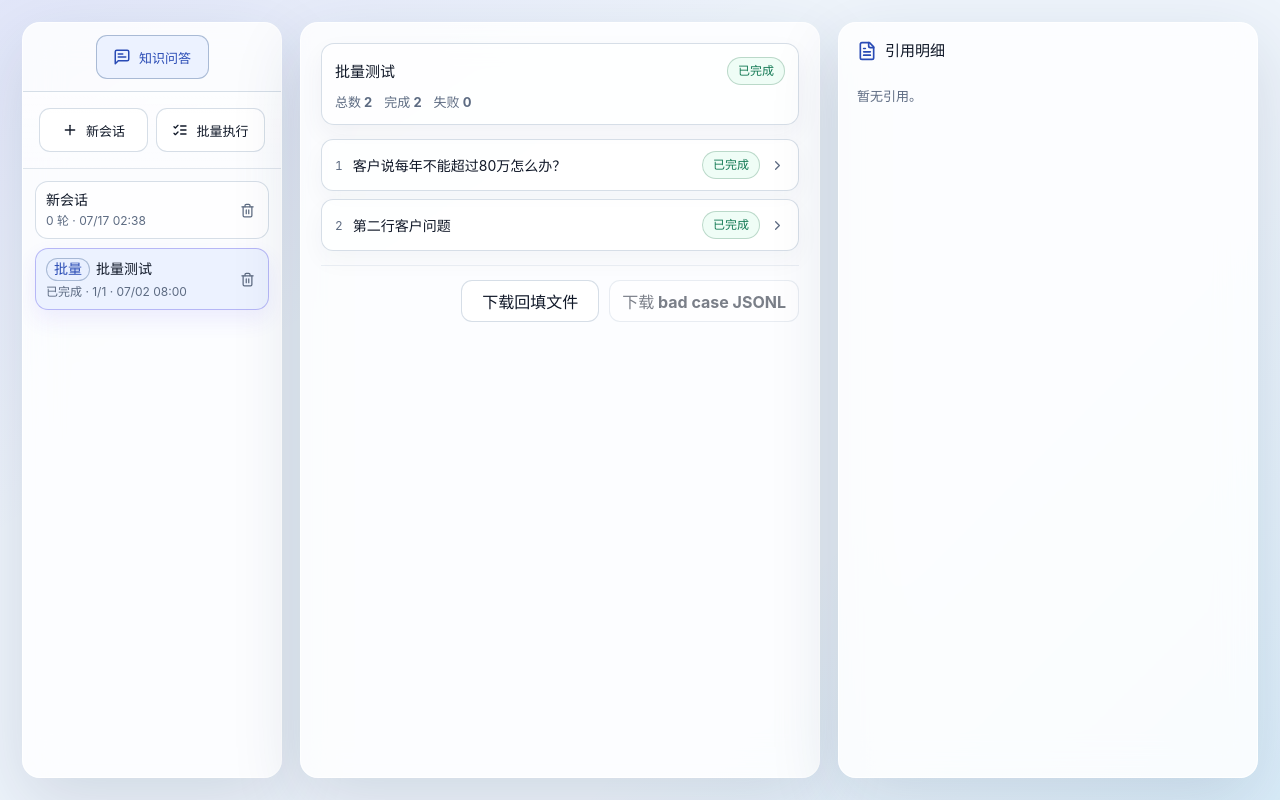
it: 批量行引用反馈按行与原始 evidence 索引隔离
Click the button "1 客户说每年不能超过80万怎么办？ 已完成": click(560, 165) [321,139,799,191]
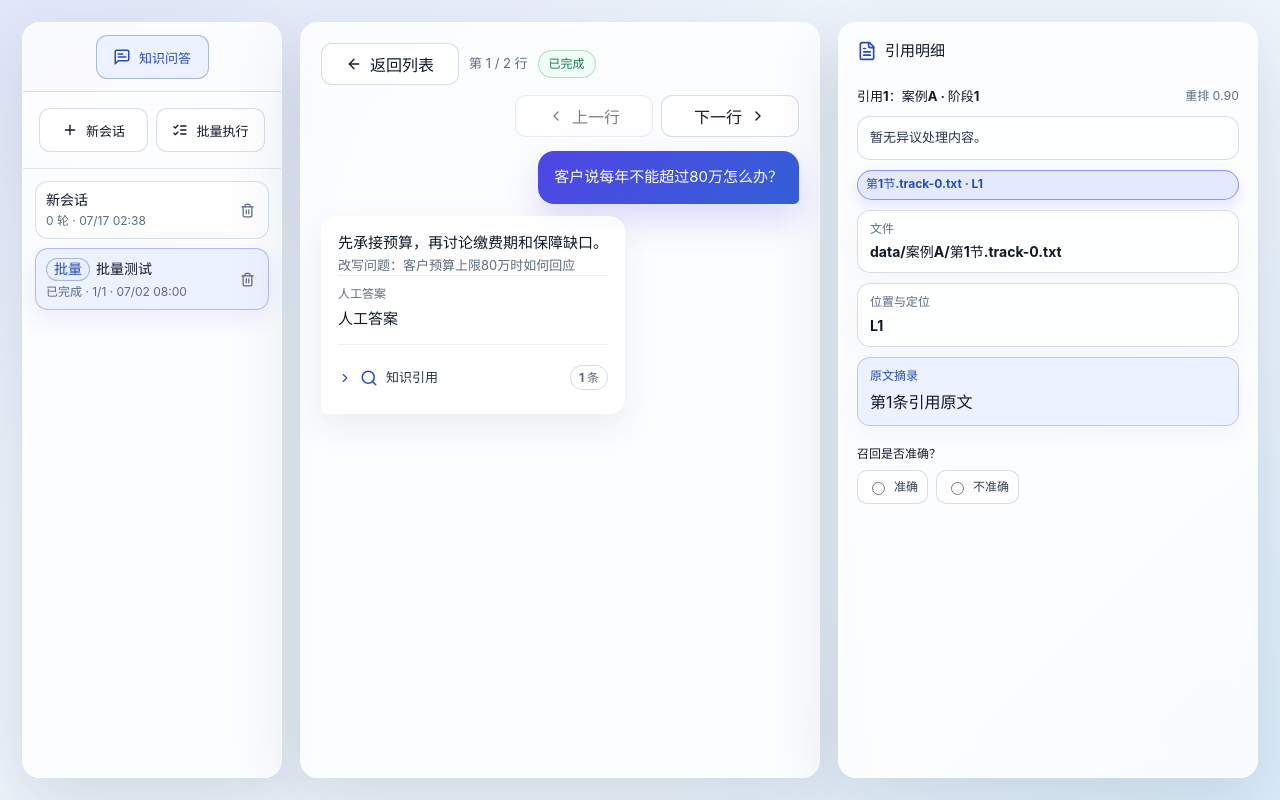
Click the radio button with aria-label "引用1召回准确": click(878, 489) [872,482,885,495]
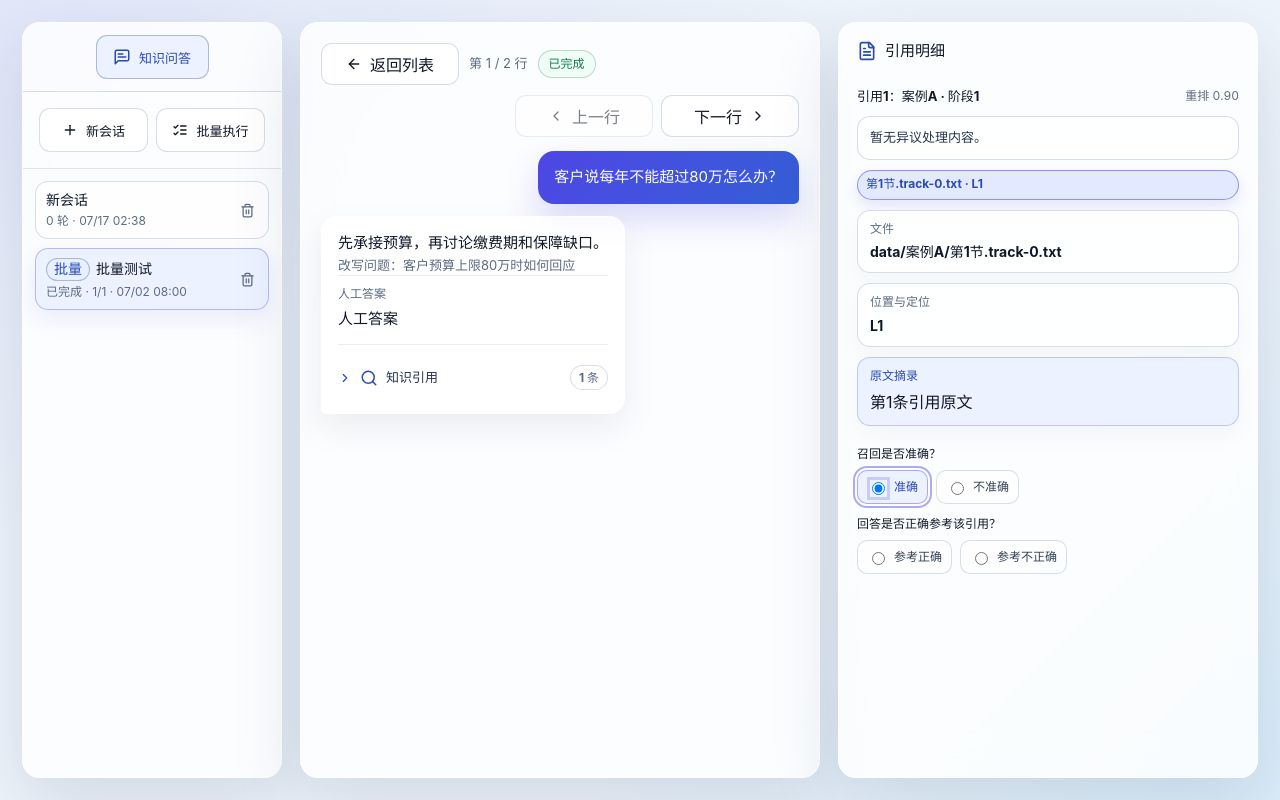
Click the radio button with aria-label "引用1参考正确": click(878, 558) [872,552,885,565]
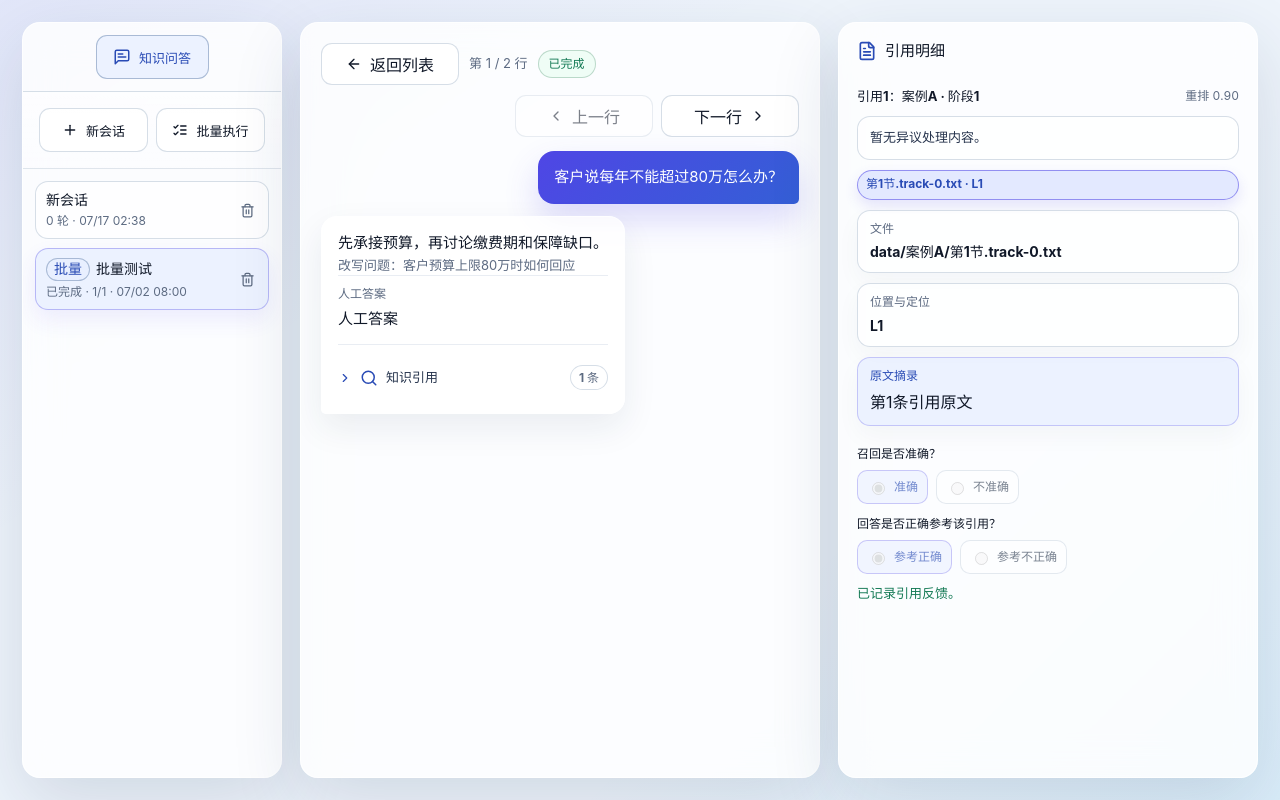
Now the radio button with aria-label "引用1召回准确" is checked, box [872,482,885,495]
Now the text "已记录引用反馈。" is shown, box [857,585,961,601]
Now the radio button with aria-label "引用1召回准确" is disabled, box [872,482,885,495]
Click the button "下一行": click(730, 116) [661,95,799,137]
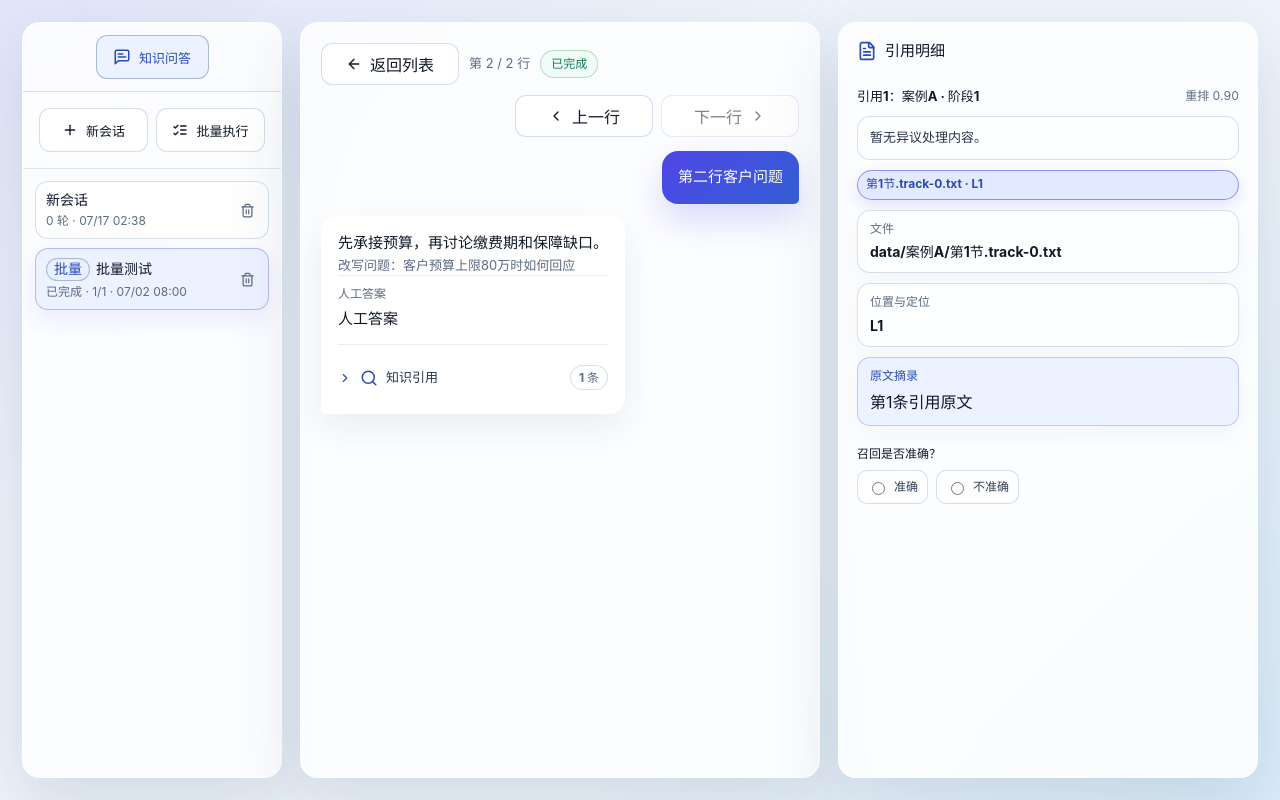
Now the text "第二行客户问题" is shown, box [662,151,799,204]
Now the radio button with aria-label "引用1召回准确" is not checked, box [872,482,885,495]
Click the button "上一行": click(584, 116) [515,95,653,137]
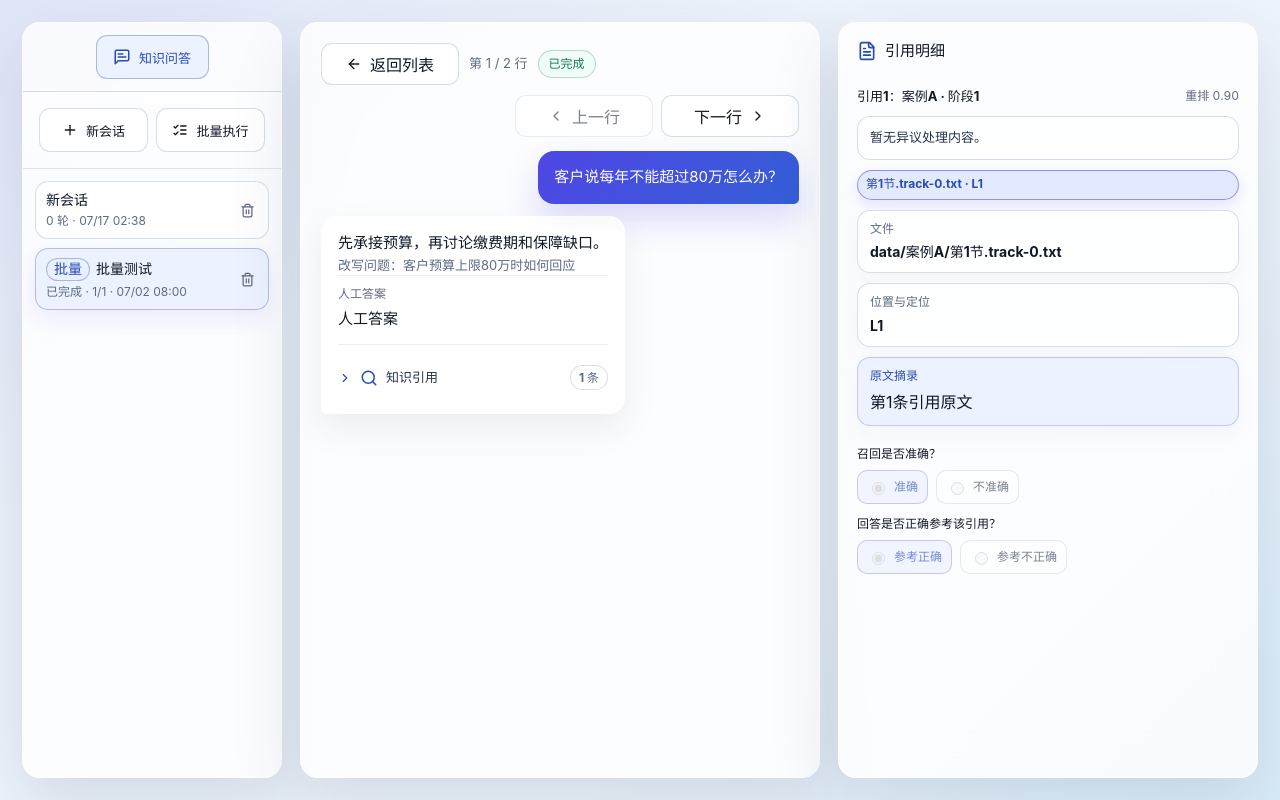
Now the radio button with aria-label "引用1召回准确" is checked, box [872,482,885,495]
Now the radio button with aria-label "引用1召回准确" is disabled, box [872,482,885,495]
Now the radio button with aria-label "引用1参考正确" is checked, box [872,552,885,565]
